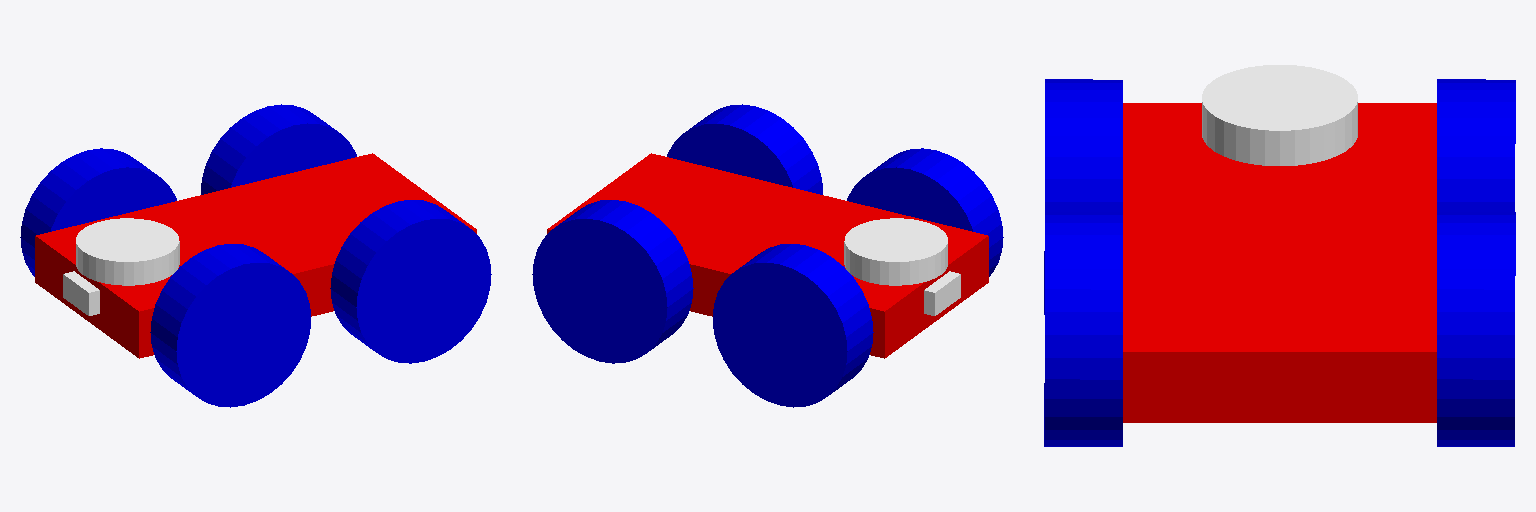
robot.urdf — three_wheeled_robot:
<?xml version="1.0" ?>

<robot name = "three_wheeled_robot">

    <link name="base">
        <visual>
        <geometry>
            <box size="0.75 0.4 0.1"/>
        </geometry>
        <material name="red">
            <color rgba="1 0 0 1" />
        </material>
        </visual>

        <inertial>
            <mass value="1" />
            <inertia ixx="0.01" ixy="0.0" ixz="0" iyy="0.01" iyz="0" izz="0.01" />
        </inertial>

        <collision>
        <geometry>
            <box size="0.75 0.4 0.1"/>
        </geometry>
        </collision>
    </link>

<!-- ===================================================================================== -->

    <link name="wheel_right_back_link">
        <inertial>
                <mass value="2" />
                <inertia ixx="0.01" ixy="0.0" ixz="0"
                iyy="0.01" iyz="0" izz="0.01" />
        </inertial>
    
        <visual>
            <geometry>
              <cylinder radius="0.15" length="0.1"/>
            </geometry>
            <material name="blue">
            <color rgba="0 0 1 1"/>
            </material>
        </visual>
    
        <collision>        
            <geometry>
              <cylinder radius="0.15" length="0.1"/>
            </geometry>
          <contact_coefficients mu="1" kp="1e+13" kd="1.0"/>
        </collision>
    </link>
    
    <joint name="wheel_right_back_joint" type="continuous">
        <origin xyz="0.2 0.25 0.0" rpy="1.57 0.0 0.0"/>
        <parent link="base"/>
        <child link="wheel_right_back_link"/>
        <axis xyz="0.0 0.0 1.0"/>
    </joint>

    <!-- ===================================================================================== -->
    <link name="wheel_right_front_link">
      <inertial>
              <mass value="2" />
              <inertia ixx="0.01" ixy="0.0" ixz="0"
              iyy="0.01" iyz="0" izz="0.01" />
      </inertial>
  
      <visual>
          <geometry>
            <cylinder radius="0.15" length="0.1"/>
          </geometry>
          <material name="blue">
          <color rgba="0 0 1 1"/>
          </material>
      </visual>
  
      <!-- <collision>        
          <geometry>
            <cylinder radius="0.15" length="0.1"/>
          </geometry>
        <contact_coefficients mu="1" kp="1e+13" kd="1.0"/>
      </collision> -->
  </link>
  
  <joint name="wheel_right_front_joint" type="continuous">
      <origin xyz="-0.2 0.25 0.0" rpy="1.57 0.0 0.0"/>
      <parent link="base"/>
      <child link="wheel_right_front_link"/>
      <axis xyz="0.0 0.0 1.0"/>
  </joint>

<!-- ===================================================================================== -->

    <link name="wheel_left_back_link">
        <inertial>
            <mass value="2" />
            <inertia ixx="0.01" ixy="0.0" ixz="0"
                iyy="0.01" iyz="0" izz="0.01" />
        </inertial>
    
        <visual>          
          <geometry>
              <cylinder radius="0.15" length="0.1"/>
          </geometry>
          <material name="blue">
            <color rgba="0 0 1 1"/>
          </material>
        </visual>
    
        <collision>
          <geometry>
              <cylinder radius="0.15" length="0.1"/>
          </geometry>
          <contact_coefficients mu="1" kp="1e+13" kd="1.0"/>
        </collision>
    </link>
    
    <joint name="wheel_left_back_joint" type="continuous">
        <origin xyz="0.2 -0.25 0.0" rpy="1.57 0.0 0.0"/>
        <parent link="base"/>
        <child link="wheel_left_back_link"/>
        <axis xyz="0.0 0.0 1.0"/>    
    </joint>
    
<!-- ===================================================================================== -->

  <link name="wheel_left_front_link">
    <inertial>
        <mass value="2" />
        <inertia ixx="0.01" ixy="0.0" ixz="0"
            iyy="0.01" iyz="0" izz="0.01" />
    </inertial>

    <visual>          
      <geometry>
          <cylinder radius="0.15" length="0.1"/>
      </geometry>
      <material name="blue">
        <color rgba="0 0 1 1"/>
      </material>
    </visual>

    <!-- <collision>
      <geometry>
          <cylinder radius="0.15" length="0.1"/>
      </geometry>
      <contact_coefficients mu="1" kp="1e+13" kd="1.0"/>
    </collision> -->
  </link>

  <joint name="wheel_left_front_joint" type="continuous">
    <origin xyz="-0.2 -0.25 0.0" rpy="1.57 0.0 0.0"/>
    <parent link="base"/>
    <child link="wheel_left_front_link"/>
    <axis xyz="0.0 0.0 1.0"/>    
  </joint>

<!-- ===================================================================================== -->

    <link name="caster">
        <inertial>
                <mass value="1" />
                <inertia ixx="0.01" ixy="0.0" ixz="0"
                iyy="0.01" iyz="0" izz="0.01" />
        </inertial>
    
        <!-- <visual>        
          <geometry>
            <sphere radius=".08" />
          </geometry>
          <material name="white" />
        </visual> -->
    
        <collision>
          <origin/>
          <geometry>
            <sphere radius=".08" />
          </geometry>
        </collision>
    </link>
    
    <joint name="caster_joint" type="continuous">
        <origin xyz="-0.3 0.0 -0.07" rpy="0.0 0.0 0.0"/>
        <axis xyz="0 0 1" />
        <parent link="base"/>
        <child link="caster"/>
    </joint>
     
<!-- ===================================================================================== -->

    <link name="camera">
        <inertial>
                <mass value="0.1" />
                <inertia ixx="0.01" ixy="0.0" ixz="0"
                iyy="0.01" iyz="0" izz="0.01" />
        </inertial>
    
        <visual>          
          <geometry>
            <box size="0.1 0.1 0.05"/>
          </geometry>
          <material name="white">
            <color rgba="1 1 1 1"/>
          </material>
        </visual>

        <collision>
          <geometry>
              <box size="0.1 0.1 0.05"/>
          </geometry>
        </collision>
    </link>
    
    <joint name="camera_joint" type="fixed">
        <origin xyz="-0.35 0 0.01" rpy="0 0.0 3.14"/>
        <parent link="base"/>
        <child link="camera"/>
        <axis xyz="0.0 0.0 1.0"/>    
    </joint>

<!-- ===================================================================================== -->

    <link name="lidar">
        <inertial>
                <mass value="0.5" />
                <inertia ixx="0.01" ixy="0.0" ixz="0"
                iyy="0.01" iyz="0" izz="0.01" />
        </inertial>
    
        <visual>          
          <geometry>
            <cylinder radius="0.1" length="0.05"/>
          </geometry>
          <material name="white">
            <color rgba="1 1 1 1"/>
          </material>
        </visual>
    
        <collision>
          <geometry>
              <box size="0.1 0.1 0.1"/>
          </geometry>
        </collision>
    </link>
    
    <joint name="lidar_joint" type="fixed">
        <origin xyz="-0.285 0 0.075" rpy="0 0.0 1.57"/>
        <parent link="base"/>
        <child link="lidar"/>
        <axis xyz="0.0 0.0 1.0"/>
    
    </joint>

<!-- ===================================================================================== -->

    <!--http://wiki.ros.org/simulator_gazebo/Tutorials/ListOfMaterials-->
    <gazebo reference="base">
        <material>Gazebo/WhiteGlow</material>
    </gazebo>
    <gazebo reference="wheel_left_back_link">
        <material>Gazebo/SkyBlue</material>
    </gazebo>
    <gazebo reference="wheel_right_back_link">
        <material>Gazebo/SkyBlue </material>
    </gazebo>
    <gazebo reference="caster">
        <material>Gazebo/Grey</material>
    </gazebo>
    <gazebo reference="lidar">
        <material>Gazebo/Blue</material>
    </gazebo>
    <gazebo reference="camera">
        <material>Gazebo/Red</material>
    </gazebo>
    
<!-- ===================================================================================== -->
  
    <!-- differential robot-->
    <gazebo>
        <plugin filename="libgazebo_ros_diff_drive.so" name="gazebo_base_controller">
          <odometry_frame>odom</odometry_frame>
          <commandTopic>cmd_vel</commandTopic>
          <publish_odom>true</publish_odom>
          <publish_odom_tf>true</publish_odom_tf>
          <update_rate>15.0</update_rate>
    
          <left_joint>wheel_left_back_joint</left_joint>
          <right_joint>wheel_right_back_joint</right_joint>
          
          <wheel_separation>0.5</wheel_separation>
          <wheel_diameter>0.3</wheel_diameter>
          <max_wheel_acceleration>0.7</max_wheel_acceleration>
          <max_wheel_torque>8</max_wheel_torque>
          <robotBaseFrame>base</robotBaseFrame>
        </plugin>
    </gazebo>

<!-- ===================================================================================== -->

    <!-- camera plugin-->
    <gazebo reference="camera">
      <sensor type="camera" name="camera1">
        <visualize>true</visualize>
        <update_rate>30.0</update_rate>
        <camera name="head">
          <horizontal_fov>1.3962634</horizontal_fov>
          <image>
            <width>800</width>
            <height>800</height>
            <format>R8G8B8</format>
          </image>
          <clip>
            <near>0.02</near>
            <far>300</far>
          </clip>
        </camera>
        <plugin name="camera_controller" filename="libgazebo_ros_camera.so">
          <alwaysOn>true</alwaysOn>
          <updateRate>60.0</updateRate>
          <cameraName>/camera1</cameraName>
          <imageTopicName>image_raw</imageTopicName>
          <cameraInfoTopicName>info_camera</cameraInfoTopicName>
          <frameName>camera</frameName>
          <hackBaseline>0.07</hackBaseline>
        </plugin>
      </sensor>
    </gazebo>

<!-- ===================================================================================== -->

    <!--lidar plugin-->
    <gazebo reference="lidar">
      <sensor name="lidar" type="ray">
       <visualize>true</visualize>
        <update_rate>12.0</update_rate>
        <plugin filename="libgazebo_ros_ray_sensor.so" name="gazebo_lidar">    
        <output_type>sensor_msgs/LaserScan</output_type>
        <frame_name>lidar</frame_name>
        </plugin>
        <ray>
          <scan>
            <horizontal>
              <samples>360</samples>
              <resolution>1</resolution>
              <min_angle>1.046</min_angle>
              <max_angle>2.093</max_angle>
            </horizontal>
          </scan>
          <range>
            <min>0.120</min>
            <max>3.5</max>
            <resolution>0.015</resolution>
          </range>
        </ray>
      </sensor>
    </gazebo>
</robot>

--- Render facts (derived) ---
Views: 3 orthographic renders of the robot side by side, from view 1: azimuth 30°, elevation 25°; view 2: azimuth 150°, elevation 25°; view 3: azimuth 270°, elevation 25°.
Model three_wheeled_robot with 8 links and 7 joints (5 continuous, 2 fixed), rooted at base, posed all joints at 0.
Links seen in each view (by area): view 1: base, wheel_left_back_link, wheel_left_front_link, wheel_right_front_link, wheel_right_back_link, lidar, camera; view 2: base, wheel_right_back_link, wheel_right_front_link, wheel_left_front_link, wheel_left_back_link, lidar, camera; view 3: base, wheel_right_back_link, wheel_left_back_link, lidar, wheel_right_front_link, wheel_left_front_link.
Boxes of the visible links, <box> form: base: <box>35,153,476,358</box>; wheel_left_back_link: <box>330,200,491,363</box>; wheel_left_front_link: <box>150,244,310,407</box>; wheel_right_front_link: <box>20,148,176,276</box>; wheel_right_back_link: <box>201,104,356,194</box>; lidar: <box>76,218,179,285</box>; camera: <box>63,271,99,315</box>; base: <box>547,153,988,358</box>; wheel_right_back_link: <box>532,200,693,363</box>; wheel_right_front_link: <box>713,244,873,407</box>; wheel_left_front_link: <box>847,148,1003,276</box>; wheel_left_back_link: <box>667,104,822,194</box>; lidar: <box>844,218,947,285</box>; camera: <box>924,271,960,315</box>; base: <box>1123,103,1436,422</box>; wheel_right_back_link: <box>1437,212,1515,446</box>; wheel_left_back_link: <box>1044,212,1122,446</box>; lidar: <box>1202,65,1357,165</box>; wheel_right_front_link: <box>1437,79,1515,211</box>; wheel_left_front_link: <box>1044,79,1122,314</box>.
Size in the robot's own frame: 0.7751 by 0.6002 by 0.3001 metres.
Geometry: primitives only (box / cylinder / sphere), no mesh files.
